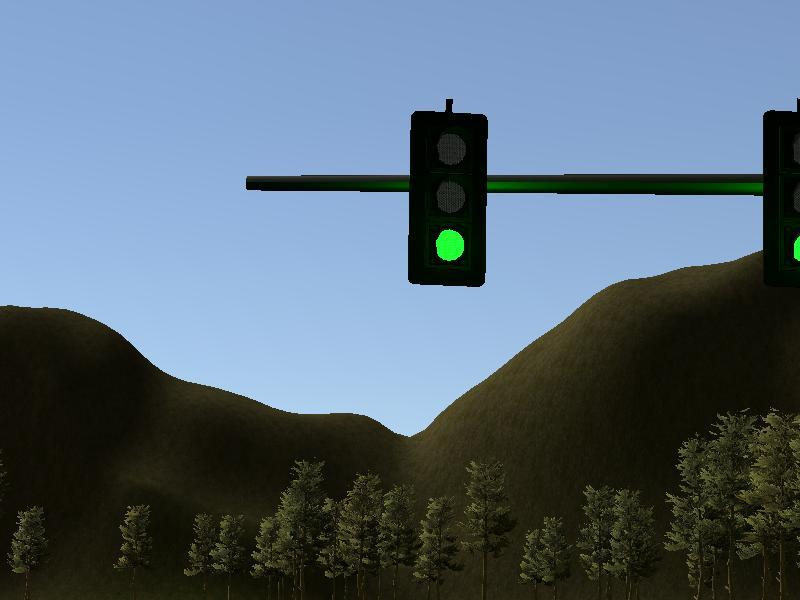Green: (412, 109, 485, 287)
